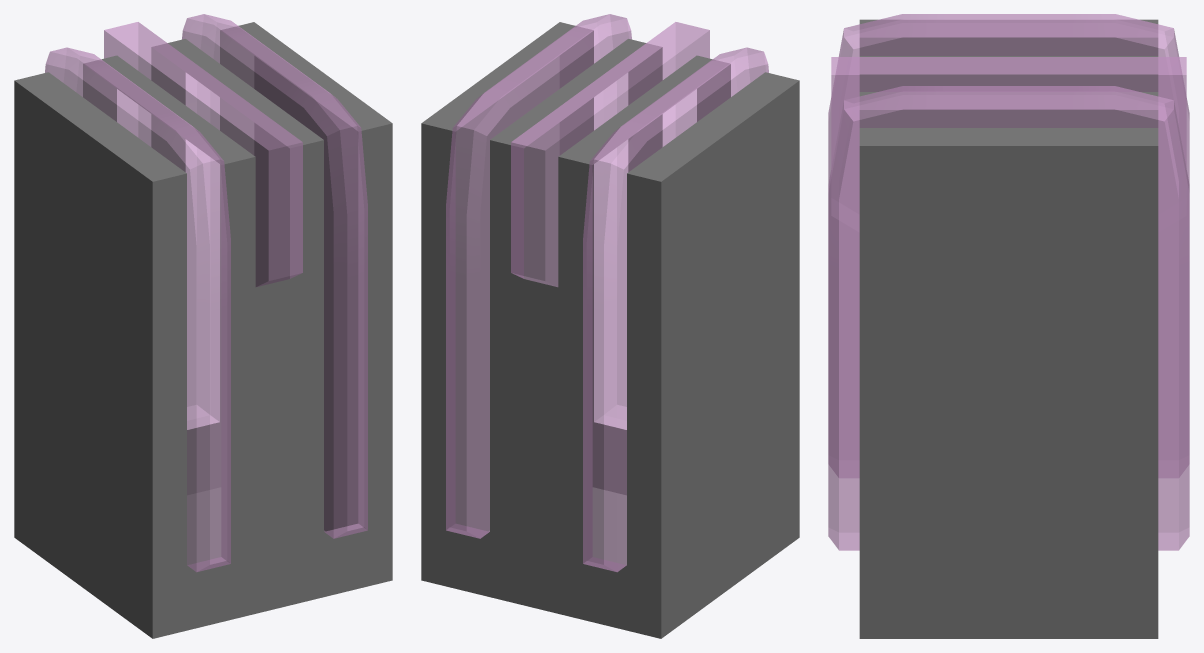
Rendered from Pink Tri Building.fbx.
The picture shows the model from 3 angles, left to right: view 1: azimuth 30°, elevation 25°; view 2: azimuth 150°, elevation 25°; view 3: azimuth 270°, elevation 25°; orthographic projection. The views are drawn at different scales.
Parts seen in each view (by area): view 1: Pink_Tri_Building; view 2: Pink_Tri_Building; view 3: Pink_Tri_Building.
Part boxes in pixels (x1,y1,x2,y2): Pink_Tri_Building: [14, 14, 392, 638]; Pink_Tri_Building: [421, 14, 799, 638]; Pink_Tri_Building: [828, 14, 1189, 638].
Bounding box in the file's own units: 51.32 × 98.83 × 62.06.
